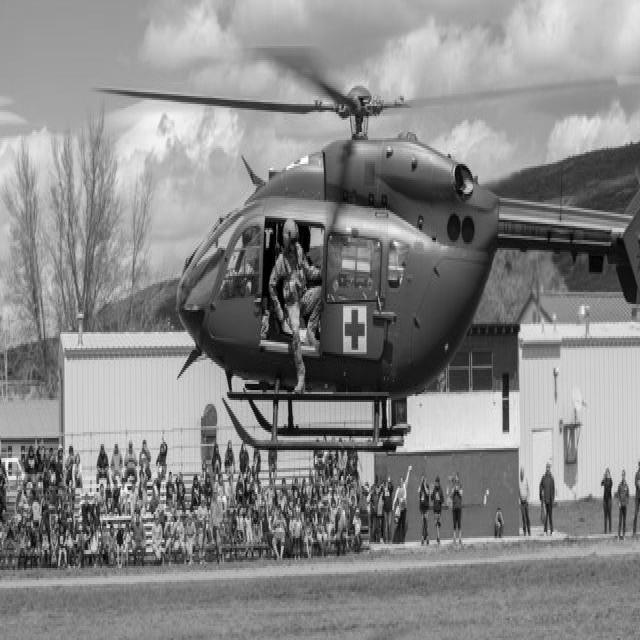helicopter: (105, 63, 640, 447)
